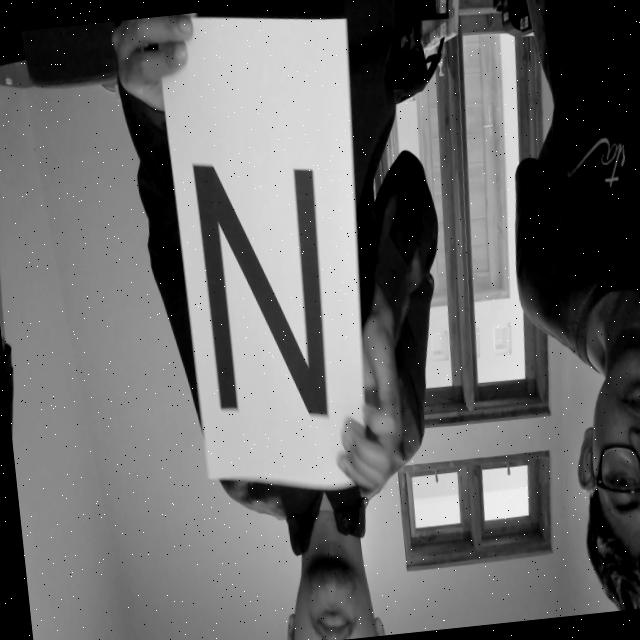n: (178, 127, 347, 444)
